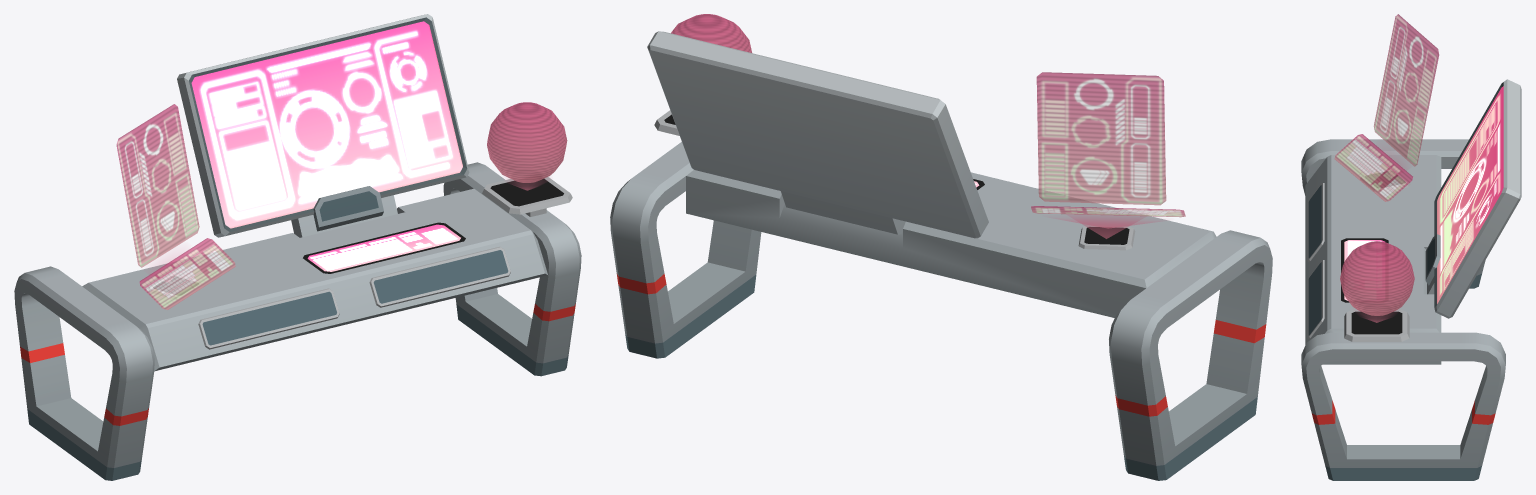
The model's file is Terminal_013.glb.
The picture shows the model from 3 angles, left to right: view 1: azimuth 30°, elevation 25°; view 2: azimuth 150°, elevation 25°; view 3: azimuth 270°, elevation 25°; orthographic projection. The views are drawn at different scales.
Visible parts, largest first — view 1: Terminal_013; view 2: Terminal_013; view 3: Terminal_013.
Part boxes in pixels (left/top/right/bottom): Terminal_013: left=14, top=14, right=581, bottom=480; Terminal_013: left=610, top=14, right=1272, bottom=480; Terminal_013: left=1301, top=14, right=1521, bottom=480.
Bounding box in the file's own units: 2.74 × 1.65 × 1.17.
Materials: 5 (4 with a texture image).
